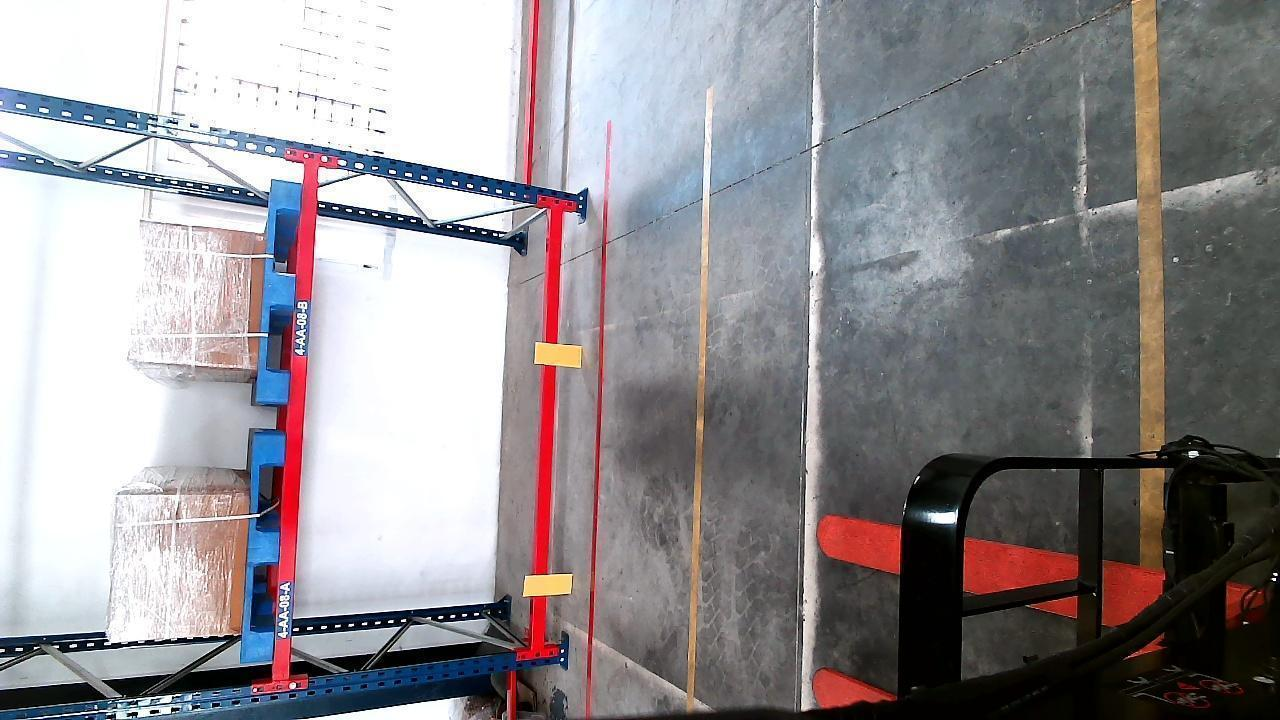red_line: (585, 114, 614, 720)
yellow_line: (684, 84, 718, 710)
